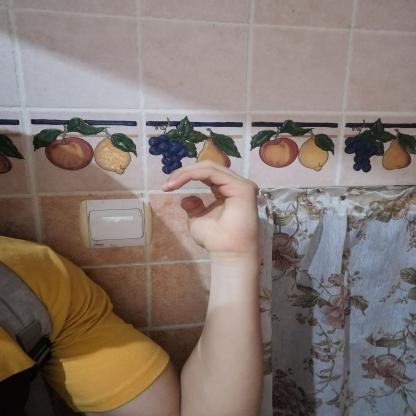JEEM: (144, 150, 280, 260)
